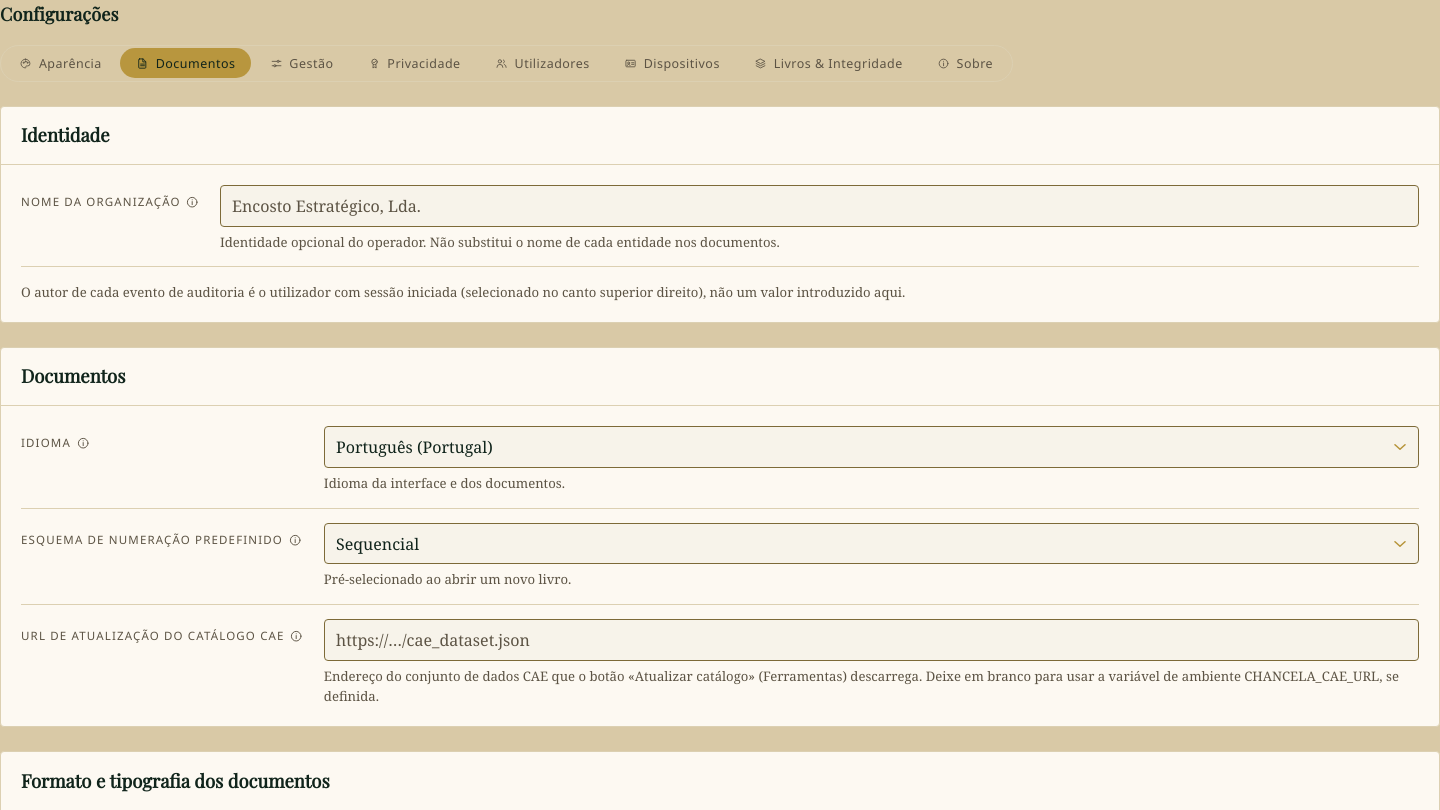
Test: SettingsPage › deep-links to a section via a path segment and navigates between sub-tabs
This screenshot has width=1440, height=810.
Expected: the field labelled "URL de atualização do catálogo CAE" is shown, [324,619,1419,661]
# Switching to Sobre surfaces the /health version there.
Click the button "Sobre".
click(965, 64)  # box [921,49,1009,79]
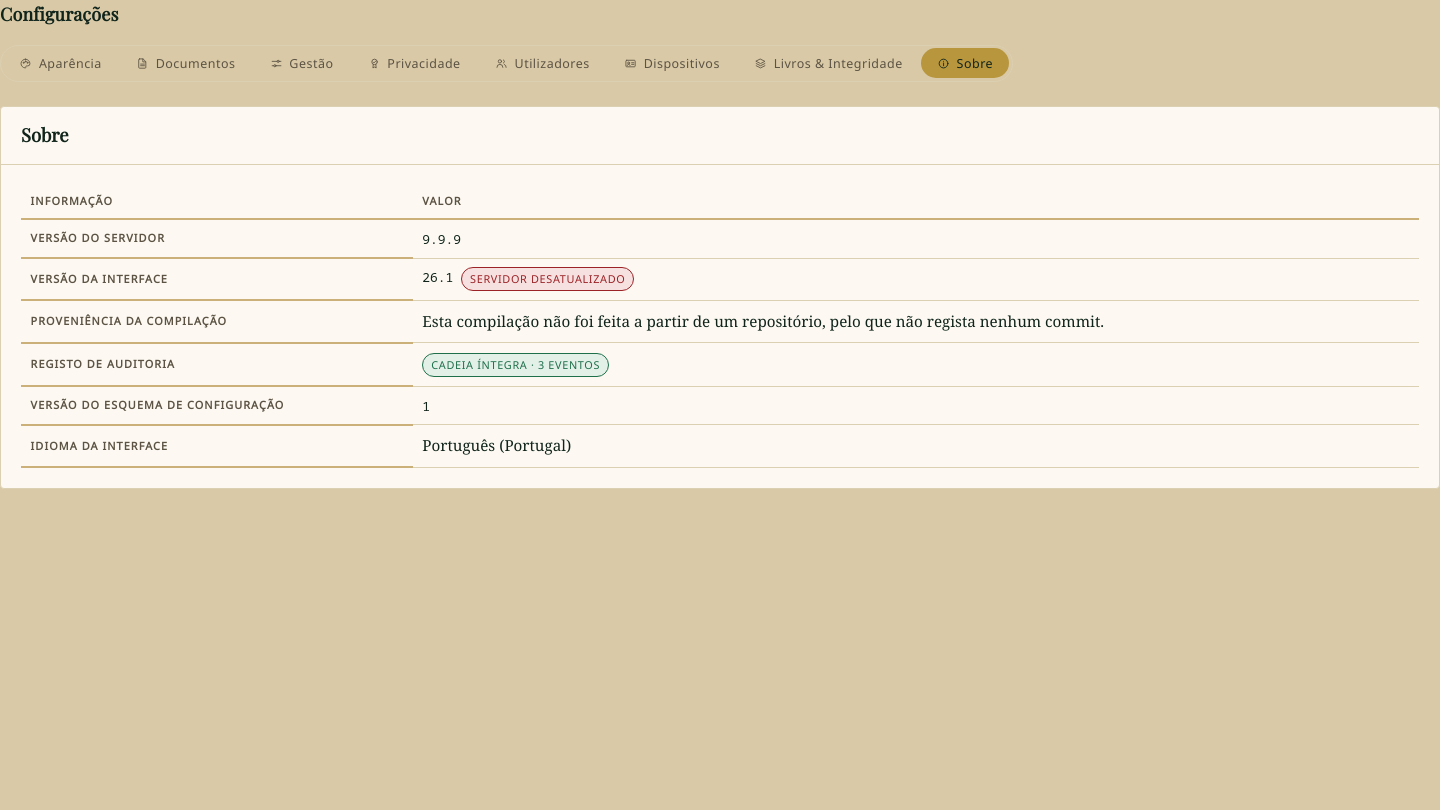
Expected: the text "9.9.9" is shown, [413,220,1419,258]
